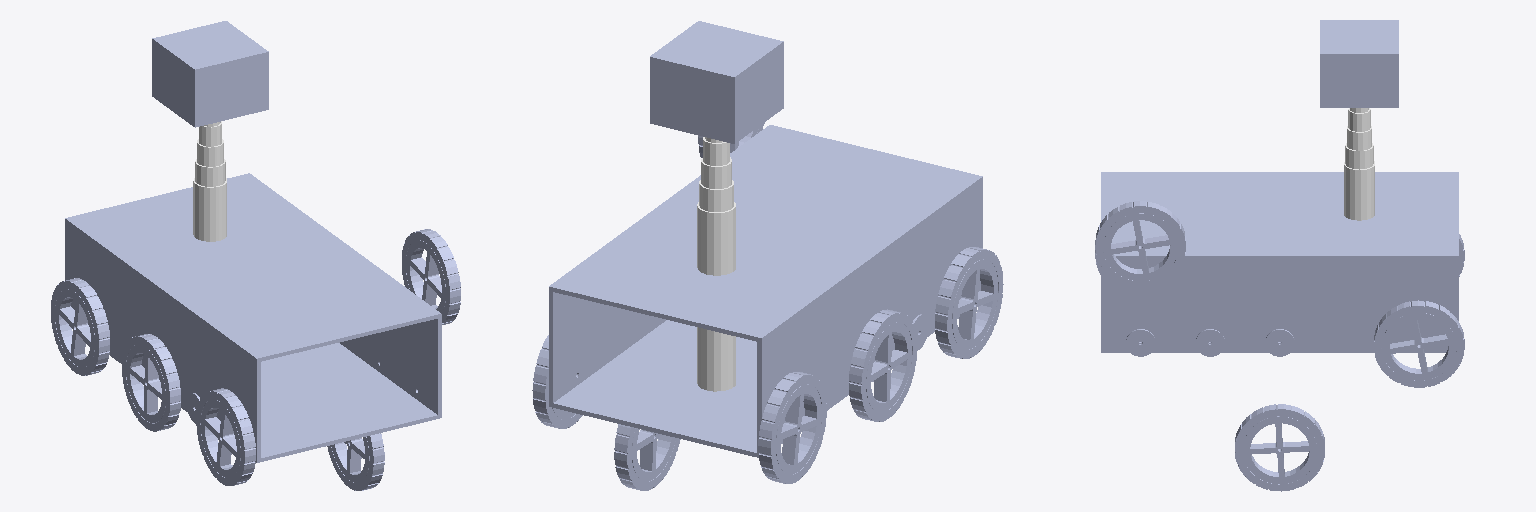
The robot description file, URDF, robot "argos_description":
<?xml version="1.0" encoding="utf-8"?>
<!-- This URDF was automatically created by SolidWorks to URDF Exporter! Originally created by [author] ([email redacted]) 
     Commit Version: 1.6.0-1-g15f4949  Build Version: 1.6.7594.29634
     For more information, please see http://wiki.ros.org/sw_urdf_exporter -->
<robot
  name="argos_description">
  <link
    name="base_link">
    <inertial>
      <origin
        xyz="-0.0377652748892957 -0.0209250714999895 0.103550542922571"
        rpy="0 0 0" />
      <mass
        value="13.4937168146928" />
      <inertia
        ixx="1.08636318950784"
        ixy="4.36039567465071E-16"
        ixz="2.00421333344687E-16"
        iyy="0.632818984557334"
        iyz="2.82387821223199E-05"
        izz="1.36808980383463" />
    </inertial>
    <visual>
      <origin
        xyz="0 0 0"
        rpy="0 0 0" />
      <geometry>
        <mesh
          filename="package://argos_description/meshes/base_link.STL" />
      </geometry>
      <material
        name="">
        <color
          rgba="0.792156862745098 0.819607843137255 0.933333333333333 1" />
      </material>
    </visual>
    <collision>
      <origin
        xyz="0 0 0"
        rpy="0 0 0" />
      <geometry>
        <mesh
          filename="package://argos_description/meshes/base_link.STL" />
      </geometry>
    </collision>
  </link>
  <link
    name="right_rear_motor_link">
    <inertial>
      <origin
        xyz="0 -0.0025 0"
        rpy="0 0 0" />
      <mass
        value="0.021697" />
      <inertia
        ixx="7.8085E-06"
        ixy="-1.916E-22"
        ixz="-4.2352E-22"
        iyy="1.5527E-05"
        iyz="-4.623E-22"
        izz="7.8085E-06" />
    </inertial>
    <visual>
      <origin
        xyz="0 0 0"
        rpy="0 0 0" />
      <geometry>
        <mesh
          filename="package://argos_description/meshes/right_rear_motor_link.STL" />
      </geometry>
      <material
        name="">
        <color
          rgba="0.79216 0.81961 0.93333 1" />
      </material>
    </visual>
    <collision>
      <origin
        xyz="0 0 0"
        rpy="0 0 0" />
      <geometry>
        <mesh
          filename="package://argos_description/meshes/right_rear_motor_link.STL" />
      </geometry>
    </collision>
  </link>
  <joint
    name="right_rear_motor_joint"
    type="continuous">
    <origin
      xyz="0.21723 -0.19595 0.00082273"
      rpy="0 -0.3918 1.5708" />
    <parent
      link="base_link" />
    <child
      link="right_rear_motor_link" />
    <axis
      xyz="0 1 0" />
  </joint>
  <link
    name="right_mid_gear_link">
    <inertial>
      <origin
        xyz="-1.98408997564847E-17 0.002 -2.32452945780892E-16"
        rpy="0 0 0" />
      <mass
        value="0.0216966242638545" />
      <inertia
        ixx="7.80852466996015E-06"
        ixy="5.02080282874028E-22"
        ixz="0"
        iyy="1.55266467388209E-05"
        iyz="1.16710758237386E-35"
        izz="7.80852466996015E-06" />
    </inertial>
    <visual>
      <origin
        xyz="0 0 0"
        rpy="0 0 0" />
      <geometry>
        <mesh
          filename="package://argos_description/meshes/right_mid_gear_link.STL" />
      </geometry>
      <material
        name="">
        <color
          rgba="0.792156862745098 0.819607843137255 0.933333333333333 1" />
      </material>
    </visual>
    <collision>
      <origin
        xyz="0 0 0"
        rpy="0 0 0" />
      <geometry>
        <mesh
          filename="package://argos_description/meshes/right_mid_gear_link.STL" />
      </geometry>
    </collision>
  </link>
  <joint
    name="right_mid_gear_joint"
    type="continuous">
    <origin
      xyz="0.16174 -0.0045 -0.066824"
      rpy="-3.1416 1.179 -3.1416" />
    <parent
      link="right_rear_motor_link" />
    <child
      link="right_mid_gear_link" />
    <axis
      xyz="0 1 0" />
  </joint>
  <link
    name="right_mid_wheel_link">
    <inertial>
      <origin
        xyz="2.2551E-16 0.0155 4.0332E-17"
        rpy="0 0 0" />
      <mass
        value="0.82012" />
      <inertia
        ixx="0.0034203"
        ixy="-6.3517E-21"
        ixz="4.8789E-19"
        iyy="0.0067179"
        iyz="-1.8115E-19"
        izz="0.0034203" />
    </inertial>
    <visual>
      <origin
        xyz="0 0 0"
        rpy="0 0 0" />
      <geometry>
        <mesh
          filename="package://argos_description/meshes/right_mid_wheel_link.STL" />
      </geometry>
      <material
        name="">
        <color
          rgba="0.79216 0.81961 0.93333 1" />
      </material>
    </visual>
    <collision>
      <origin
        xyz="0 0 0"
        rpy="0 0 0" />
      <geometry>
        <mesh
          filename="package://argos_description/meshes/right_mid_wheel_link.STL" />
      </geometry>
    </collision>
  </link>
  <joint
    name="right_mid_wheel_joint"
    type="fixed">
    <origin
      xyz="0.28277 0 0"
      rpy="-3.1416 1.5127 0" />
    <parent
      link="right_mid_gear_link" />
    <child
      link="right_mid_wheel_link" />
    <axis
      xyz="0 0 0" />
  </joint>
  <link
    name="right_rear_gear_link">
    <inertial>
      <origin
        xyz="-6.98226199080665E-17 0.00749999999999987 -1.11022302462516E-16"
        rpy="0 0 0" />
      <mass
        value="0.0216966242638545" />
      <inertia
        ixx="7.80852466996015E-06"
        ixy="-5.02080282874028E-22"
        ixz="-3.74939945665465E-41"
        iyy="1.55266467388209E-05"
        iyz="-2.43906422185256E-57"
        izz="7.80852466996015E-06" />
    </inertial>
    <visual>
      <origin
        xyz="0 0 0"
        rpy="0 0 0" />
      <geometry>
        <mesh
          filename="package://argos_description/meshes/right_rear_gear_link.STL" />
      </geometry>
      <material
        name="">
        <color
          rgba="0.792156862745098 0.819607843137255 0.933333333333333 1" />
      </material>
    </visual>
    <collision>
      <origin
        xyz="0 0 0"
        rpy="0 0 0" />
      <geometry>
        <mesh
          filename="package://argos_description/meshes/right_rear_gear_link.STL" />
      </geometry>
    </collision>
  </link>
  <joint
    name="right_rear_gear_joint"
    type="continuous">
    <origin
      xyz="-0.16174 -0.005 0.066824"
      rpy="-3.1416 1.179 -3.1416" />
    <parent
      link="right_rear_motor_link" />
    <child
      link="right_rear_gear_link" />
    <axis
      xyz="0 1 0" />
  </joint>
  <link
    name="right_rear_wheel_link">
    <inertial>
      <origin
        xyz="-8.32667268468867E-17 0.015 5.55111512312578E-17"
        rpy="0 0 0" />
      <mass
        value="0.820122101622576" />
      <inertia
        ixx="0.00342027097529298"
        ixy="2.01461140192011E-19"
        ixz="1.19262238973405E-18"
        iyy="0.00671792488217428"
        iyz="4.2187156765204E-20"
        izz="0.00342027097529298" />
    </inertial>
    <visual>
      <origin
        xyz="0 0 0"
        rpy="0 0 0" />
      <geometry>
        <mesh
          filename="package://argos_description/meshes/right_rear_wheel_link.STL" />
      </geometry>
      <material
        name="">
        <color
          rgba="0.792156862745098 0.819607843137255 0.933333333333333 1" />
      </material>
    </visual>
    <collision>
      <origin
        xyz="0 0 0"
        rpy="0 0 0" />
      <geometry>
        <mesh
          filename="package://argos_description/meshes/right_rear_wheel_link.STL" />
      </geometry>
    </collision>
  </link>
  <joint
    name="right_rear_wheel_joint"
    type="continuous">
    <origin
      xyz="-0.28277 0 0"
      rpy="3.1416 -0.17799 0" />
    <parent
      link="right_rear_gear_link" />
    <child
      link="right_rear_wheel_link" />
    <axis
      xyz="0 1 0" />
  </joint>
  <link
    name="right_front_wheel_link">
    <inertial>
      <origin
        xyz="-5.55111512312578E-17 0.015 -6.93889390390723E-18"
        rpy="0 0 0" />
      <mass
        value="0.820122101622575" />
      <inertia
        ixx="0.00342027097529298"
        ixy="6.74204766962017E-20"
        ixz="-2.71050543121376E-19"
        iyy="0.00671792488217427"
        iyz="-2.84377181797463E-19"
        izz="0.00342027097529297" />
    </inertial>
    <visual>
      <origin
        xyz="0 0 0"
        rpy="0 0 0" />
      <geometry>
        <mesh
          filename="package://argos_description/meshes/right_front_wheel_link.STL" />
      </geometry>
      <material
        name="">
        <color
          rgba="0.792156862745098 0.819607843137255 0.933333333333333 1" />
      </material>
    </visual>
    <collision>
      <origin
        xyz="0 0 0"
        rpy="0 0 0" />
      <geometry>
        <mesh
          filename="package://argos_description/meshes/right_front_wheel_link.STL" />
      </geometry>
    </collision>
  </link>
  <joint
    name="right_front_wheel_joint"
    type="continuous">
    <origin
      xyz="0.21223 0.32905 0.00082273"
      rpy="0 0.1857 -1.5708" />
    <parent
      link="base_link" />
    <child
      link="right_front_wheel_link" />
    <axis
      xyz="0 1 0" />
  </joint>
  <link
    name="left_front_wheel_link">
    <inertial>
      <origin
        xyz="0 0.015 1.38777878078145E-17"
        rpy="0 0 0" />
      <mass
        value="0.820122101622576" />
      <inertia
        ixx="0.00342027097529298"
        ixy="2.48187406627788E-20"
        ixz="5.96311194867027E-19"
        iyy="0.00671792488217428"
        iyz="2.81064112758757E-19"
        izz="0.00342027097529298" />
    </inertial>
    <visual>
      <origin
        xyz="0 0 0"
        rpy="0 0 0" />
      <geometry>
        <mesh
          filename="package://argos_description/meshes/left_front_wheel_link.STL" />
      </geometry>
      <material
        name="">
        <color
          rgba="0.792156862745098 0.819607843137255 0.933333333333333 1" />
      </material>
    </visual>
    <collision>
      <origin
        xyz="0 0 0"
        rpy="0 0 0" />
      <geometry>
        <mesh
          filename="package://argos_description/meshes/left_front_wheel_link.STL" />
      </geometry>
    </collision>
  </link>
  <joint
    name="left_front_wheel_joint"
    type="continuous">
    <origin
      xyz="-0.28777 0.32905 0.00082273"
      rpy="3.1416 0.1857 -1.5708" />
    <parent
      link="base_link" />
    <child
      link="left_front_wheel_link" />
    <axis
      xyz="0 1 0" />
  </joint>
  <link
    name="left_rear_motor_link">
    <inertial>
      <origin
        xyz="-1.38777878078145E-16 -0.0025 -4.16333634234434E-17"
        rpy="0 0 0" />
      <mass
        value="0.0216966242638545" />
      <inertia
        ixx="7.80852466996016E-06"
        ixy="-1.59887894548014E-22"
        ixz="-2.11758236813575E-22"
        iyy="1.55266467388209E-05"
        iyz="3.88435361031883E-22"
        izz="7.80852466996015E-06" />
    </inertial>
    <visual>
      <origin
        xyz="0 0 0"
        rpy="0 0 0" />
      <geometry>
        <mesh
          filename="package://argos_description/meshes/left_rear_motor_link.STL" />
      </geometry>
      <material
        name="">
        <color
          rgba="0.792156862745098 0.819607843137255 0.933333333333333 1" />
      </material>
    </visual>
    <collision>
      <origin
        xyz="0 0 0"
        rpy="0 0 0" />
      <geometry>
        <mesh
          filename="package://argos_description/meshes/left_rear_motor_link.STL" />
      </geometry>
    </collision>
  </link>
  <joint
    name="left_rear_motor_joint"
    type="continuous">
    <origin
      xyz="-0.29277 -0.19595 0.00082273"
      rpy="3.1416 -0.3918 1.5708" />
    <parent
      link="base_link" />
    <child
      link="left_rear_motor_link" />
    <axis
      xyz="0 1 0" />
  </joint>
  <link
    name="left_rear_gear_link">
    <inertial>
      <origin
        xyz="2.16840434497101E-19 0.00249999999999995 5.55111512312578E-17"
        rpy="0 0 0" />
      <mass
        value="0.0216966242638545" />
      <inertia
        ixx="7.80852466996015E-06"
        ixy="5.02080282874028E-22"
        ixz="-3.74939945665465E-41"
        iyy="1.55266467388209E-05"
        iyz="2.43906422185256E-57"
        izz="7.80852466996015E-06" />
    </inertial>
    <visual>
      <origin
        xyz="0 0 0"
        rpy="0 0 0" />
      <geometry>
        <mesh
          filename="package://argos_description/meshes/left_rear_gear_link.STL" />
      </geometry>
      <material
        name="">
        <color
          rgba="0.792156862745098 0.819607843137255 0.933333333333333 1" />
      </material>
    </visual>
    <collision>
      <origin
        xyz="0 0 0"
        rpy="0 0 0" />
      <geometry>
        <mesh
          filename="package://argos_description/meshes/left_rear_gear_link.STL" />
      </geometry>
    </collision>
  </link>
  <joint
    name="left_rear_gear_joint"
    type="continuous">
    <origin
      xyz="-0.161739303728853 0 -0.0668236307701537"
      rpy="-3.14159265358979 -1.17899991460539 3.14159265358979" />
    <parent
      link="left_rear_motor_link" />
    <child
      link="left_rear_gear_link" />
    <axis
      xyz="0 1 0" />
  </joint>
  <link
    name="left_rear_wheel_link">
    <inertial>
      <origin
        xyz="1.38777878078145E-17 0.0200000000000001 0"
        rpy="0 0 0" />
      <mass
        value="0.820122101622576" />
      <inertia
        ixx="0.00342027097529298"
        ixy="-2.79214332337302E-19"
        ixz="-5.42101086242752E-20"
        iyy="0.00671792488217428"
        iyz="5.55425286818948E-20"
        izz="0.00342027097529298" />
    </inertial>
    <visual>
      <origin
        xyz="0 0 0"
        rpy="0 0 0" />
      <geometry>
        <mesh
          filename="package://argos_description/meshes/left_rear_wheel_link.STL" />
      </geometry>
      <material
        name="">
        <color
          rgba="0.792156862745098 0.819607843137255 0.933333333333333 1" />
      </material>
    </visual>
    <collision>
      <origin
        xyz="0 0 0"
        rpy="0 0 0" />
      <geometry>
        <mesh
          filename="package://argos_description/meshes/left_rear_wheel_link.STL" />
      </geometry>
    </collision>
  </link>
  <joint
    name="left_rear_wheel_joint"
    type="continuous">
    <origin
      xyz="0 0 0"
      rpy="3.14159265358979 0.17799306621387 0" />
    <parent
      link="left_rear_gear_link" />
    <child
      link="left_rear_wheel_link" />
    <axis
      xyz="0 1 0" />
  </joint>
  <link
    name="left_mid_gear_link">
    <inertial>
      <origin
        xyz="-1.57209315010398E-17 0.002 1.87350135405495E-16"
        rpy="0 0 0" />
      <mass
        value="0.0216966242638545" />
      <inertia
        ixx="7.80852466996015E-06"
        ixy="1.58992089576735E-20"
        ixz="-3.37037740267766E-34"
        iyy="1.55266467388209E-05"
        iyz="-1.76732259571658E-19"
        izz="7.80852466996015E-06" />
    </inertial>
    <visual>
      <origin
        xyz="0 0 0"
        rpy="0 0 0" />
      <geometry>
        <mesh
          filename="package://argos_description/meshes/left_mid_gear_link.STL" />
      </geometry>
      <material
        name="">
        <color
          rgba="0.792156862745098 0.819607843137255 0.933333333333333 1" />
      </material>
    </visual>
    <collision>
      <origin
        xyz="0 0 0"
        rpy="0 0 0" />
      <geometry>
        <mesh
          filename="package://argos_description/meshes/left_mid_gear_link.STL" />
      </geometry>
    </collision>
  </link>
  <joint
    name="left_mid_gear_joint"
    type="continuous">
    <origin
      xyz="0.161739303728853 -0.0045 0.0668236307701537"
      rpy="-3.14159265358977 -1.17899991460537 3.14159265358979" />
    <parent
      link="left_rear_motor_link" />
    <child
      link="left_mid_gear_link" />
    <axis
      xyz="0 1 0" />
  </joint>
  <link
    name="left_mid_wheel_link">
    <inertial>
      <origin
        xyz="2.15105711021124E-16 0.0154999999999999 -2.64545330086463E-17"
        rpy="0 0 0" />
      <mass
        value="0.820122101622574" />
      <inertia
        ixx="0.00342027097529297"
        ixy="5.33859423250118E-20"
        ixz="1.0842021724855E-19"
        iyy="0.00671792488217427"
        iyz="2.05696505401071E-19"
        izz="0.00342027097529297" />
    </inertial>
    <visual>
      <origin
        xyz="0 0 0"
        rpy="0 0 0" />
      <geometry>
        <mesh
          filename="package://argos_description/meshes/left_mid_wheel_link.STL" />
      </geometry>
      <material
        name="">
        <color
          rgba="0.792156862745098 0.819607843137255 0.933333333333333 1" />
      </material>
    </visual>
    <collision>
      <origin
        xyz="0 0 0"
        rpy="0 0 0" />
      <geometry>
        <mesh
          filename="package://argos_description/meshes/left_mid_wheel_link.STL" />
      </geometry>
    </collision>
  </link>
  <joint
    name="left_mid_wheel_joint"
    type="continuous">
    <origin
      xyz="0 0 0"
      rpy="3.1415926535894 -1.51273617278772 0" />
    <parent
      link="left_mid_gear_link" />
    <child
      link="left_mid_wheel_link" />
    <axis
      xyz="0 1 0" />
  </joint>
  <link
    name="mast_link">
    <inertial>
      <origin
        xyz="0 0 0"
        rpy="0 0 0" />
      <mass
        value="0" />
      <inertia
        ixx="0"
        ixy="0"
        ixz="0"
        iyy="0"
        iyz="0"
        izz="0" />
    </inertial>
    <visual>
      <origin
        xyz="0 0 0"
        rpy="0 0 0" />
      <geometry>
        <mesh
          filename="package://argos_description/meshes/mast_link.STL" />
      </geometry>
      <material
        name="">
        <color
          rgba="1 1 1 1" />
      </material>
    </visual>
    <collision>
      <origin
        xyz="0 0 0"
        rpy="0 0 0" />
      <geometry>
        <mesh
          filename="package://argos_description/meshes/mast_link.STL" />
      </geometry>
    </collision>
  </link>
  <joint
    name="mast_joint"
    type="fixed">
    <origin
      xyz="-0.0377652748892956 0.179054556844005 -0.0214972687720274"
      rpy="1.5707963267949 0 0" />
    <parent
      link="base_link" />
    <child
      link="mast_link" />
    <axis
      xyz="0 0 0" />
  </joint>
  <link
    name="camera_link">
    <inertial>
      <origin
        xyz="0 0.075 2.77555756156289E-17"
        rpy="0 0 0" />
      <mass
        value="6" />
      <inertia
        ixx="0.03125"
        ixy="-7.22801448323669E-19"
        ixz="-1.09865820145197E-19"
        iyy="0.04"
        iyz="-5.42101086242748E-19"
        izz="0.03125" />
    </inertial>
    <visual>
      <origin
        xyz="0 0 0"
        rpy="0 0 0" />
      <geometry>
        <mesh
          filename="package://argos_description/meshes/camera_link.STL" />
      </geometry>
      <material
        name="">
        <color
          rgba="0.792156862745098 0.819607843137255 0.933333333333333 1" />
      </material>
    </visual>
    <collision>
      <origin
        xyz="0 0 0"
        rpy="0 0 0" />
      <geometry>
        <mesh
          filename="package://argos_description/meshes/camera_link.STL" />
      </geometry>
    </collision>
  </link>
  <joint
    name="camera_joint"
    type="fixed">
    <origin
      xyz="0 0.6 0"
      rpy="0 0 0" />
    <parent
      link="mast_link" />
    <child
      link="camera_link" />
    <axis
      xyz="0 0 0" />
  </joint>
</robot>

--- Facts derived from the render (not from the file) ---
The picture shows the robot from 3 angles, left to right: view 1: azimuth 30°, elevation 25°; view 2: azimuth 150°, elevation 25°; view 3: azimuth 270°, elevation 25°; orthographic projection.
Robot: argos_description — 15 links, 14 joints (11 continuous, 3 fixed); root link base_link; default pose: all joints at 0.
Visible links, largest first — view 1: base_link, camera_link, left_rear_wheel_link, left_mid_wheel_link, left_front_wheel_link, right_rear_wheel_link, mast_link, right_mid_wheel_link; view 2: base_link, camera_link, mast_link, left_front_wheel_link, left_rear_wheel_link, left_mid_wheel_link, right_mid_wheel_link, right_front_wheel_link; view 3: base_link, camera_link, right_front_wheel_link, right_rear_wheel_link, right_mid_wheel_link, mast_link, right_mid_gear_link, right_rear_gear_link, right_rear_motor_link.
Link boxes in pixels (left/top/right/bottom): base_link: left=65, top=173, right=441, bottom=462; camera_link: left=152, top=21, right=268, bottom=127; left_rear_wheel_link: left=196, top=388, right=255, bottom=485; left_mid_wheel_link: left=122, top=334, right=180, bottom=431; left_front_wheel_link: left=51, top=278, right=109, bottom=375; right_rear_wheel_link: left=402, top=229, right=460, bottom=324; mast_link: left=193, top=121, right=226, bottom=241; right_mid_wheel_link: left=327, top=433, right=384, bottom=490; base_link: left=549, top=125, right=982, bottom=457; camera_link: left=650, top=21, right=783, bottom=143; mast_link: left=697, top=137, right=735, bottom=391; left_front_wheel_link: left=758, top=372, right=826, bottom=483; left_rear_wheel_link: left=935, top=247, right=1003, bottom=358; left_mid_wheel_link: left=849, top=309, right=916, bottom=421; right_mid_wheel_link: left=614, top=424, right=680, bottom=490; right_front_wheel_link: left=532, top=335, right=582, bottom=428; base_link: left=1101, top=172, right=1458, bottom=352; camera_link: left=1320, top=20, right=1398, bottom=107; right_front_wheel_link: left=1374, top=300, right=1464, bottom=387; right_rear_wheel_link: left=1095, top=201, right=1185, bottom=287; right_mid_wheel_link: left=1235, top=404, right=1324, bottom=491; mast_link: left=1344, top=108, right=1374, bottom=220; right_mid_gear_link: left=1265, top=329, right=1294, bottom=356; right_rear_gear_link: left=1126, top=329, right=1155, bottom=356; right_rear_motor_link: left=1195, top=329, right=1224, bottom=356.
Size in the robot's own frame: 0.585 by 0.9285 by 1.12 metres.
Meshes: 15 distinct files referenced, 15 mesh visuals loaded (15 binary STL).
